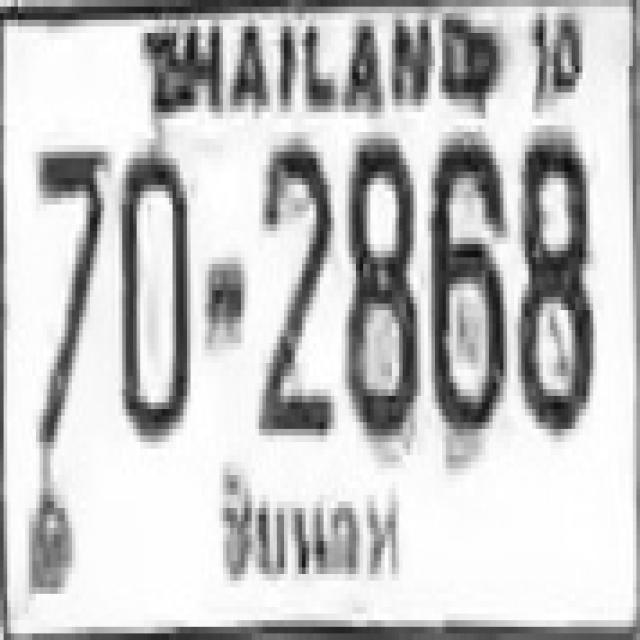0: (119, 142, 187, 432)
2: (257, 132, 329, 429)
6: (428, 132, 503, 442)
7: (34, 142, 106, 439)
8: (514, 128, 590, 426), (344, 132, 416, 435)
CNT: (200, 450, 408, 600)
